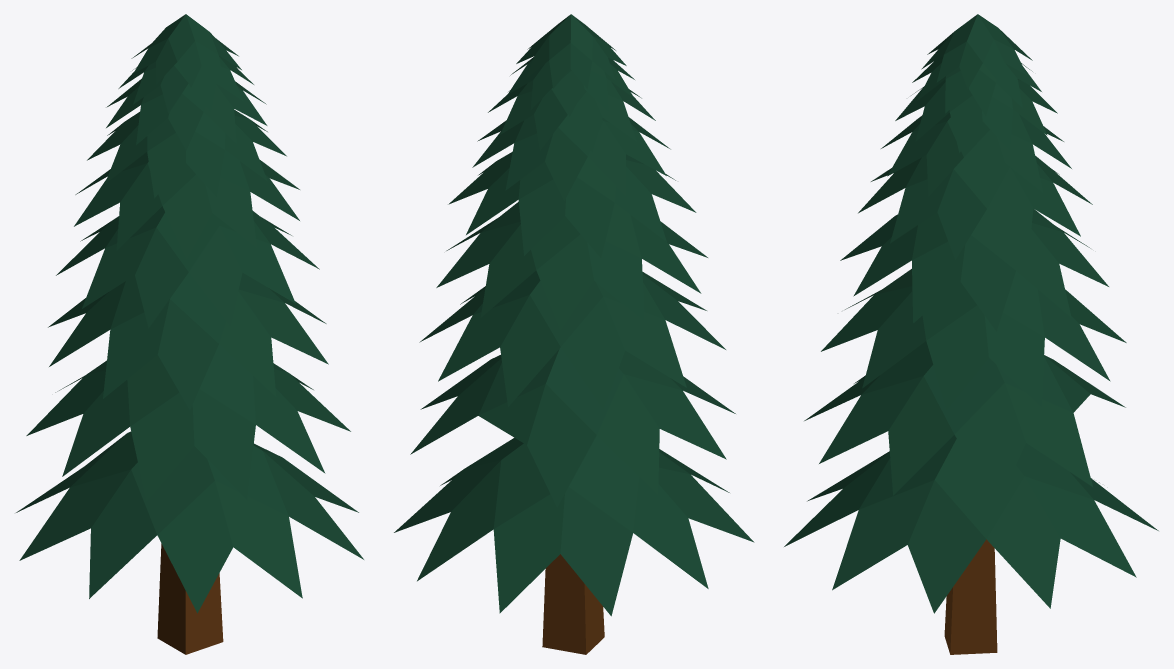
The model's file is coniferTreePack.fbx.
3 views of the same model, side by side, from view 1: azimuth 30°, elevation 25°; view 2: azimuth 150°, elevation 25°; view 3: azimuth 270°, elevation 25° (orthographic).
Visible parts, largest first — view 1: forest; view 2: forest; view 3: forest.
Part boxes in pixels (x1=…): forest: x1=16, y1=14, x2=363, y2=654; forest: x1=394, y1=14, x2=754, y2=654; forest: x1=784, y1=14, x2=1158, y2=654.
Bounding box in the file's own units: 56.84 × 112 × 60.51.
